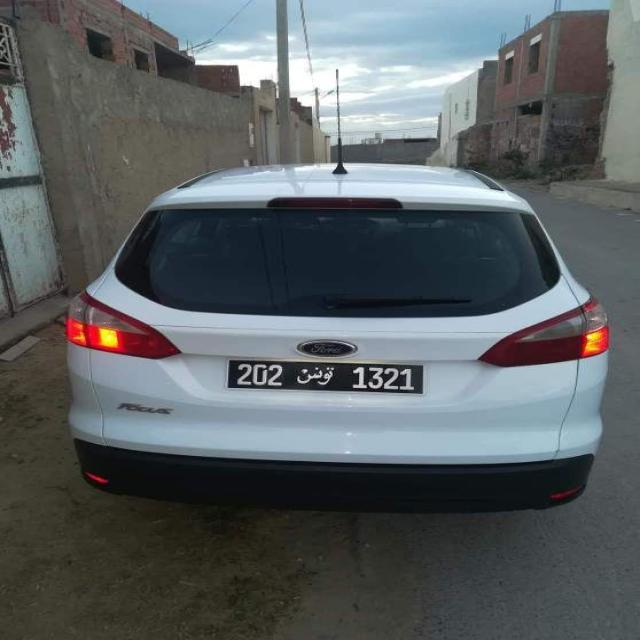LP: (223, 356, 430, 398)
